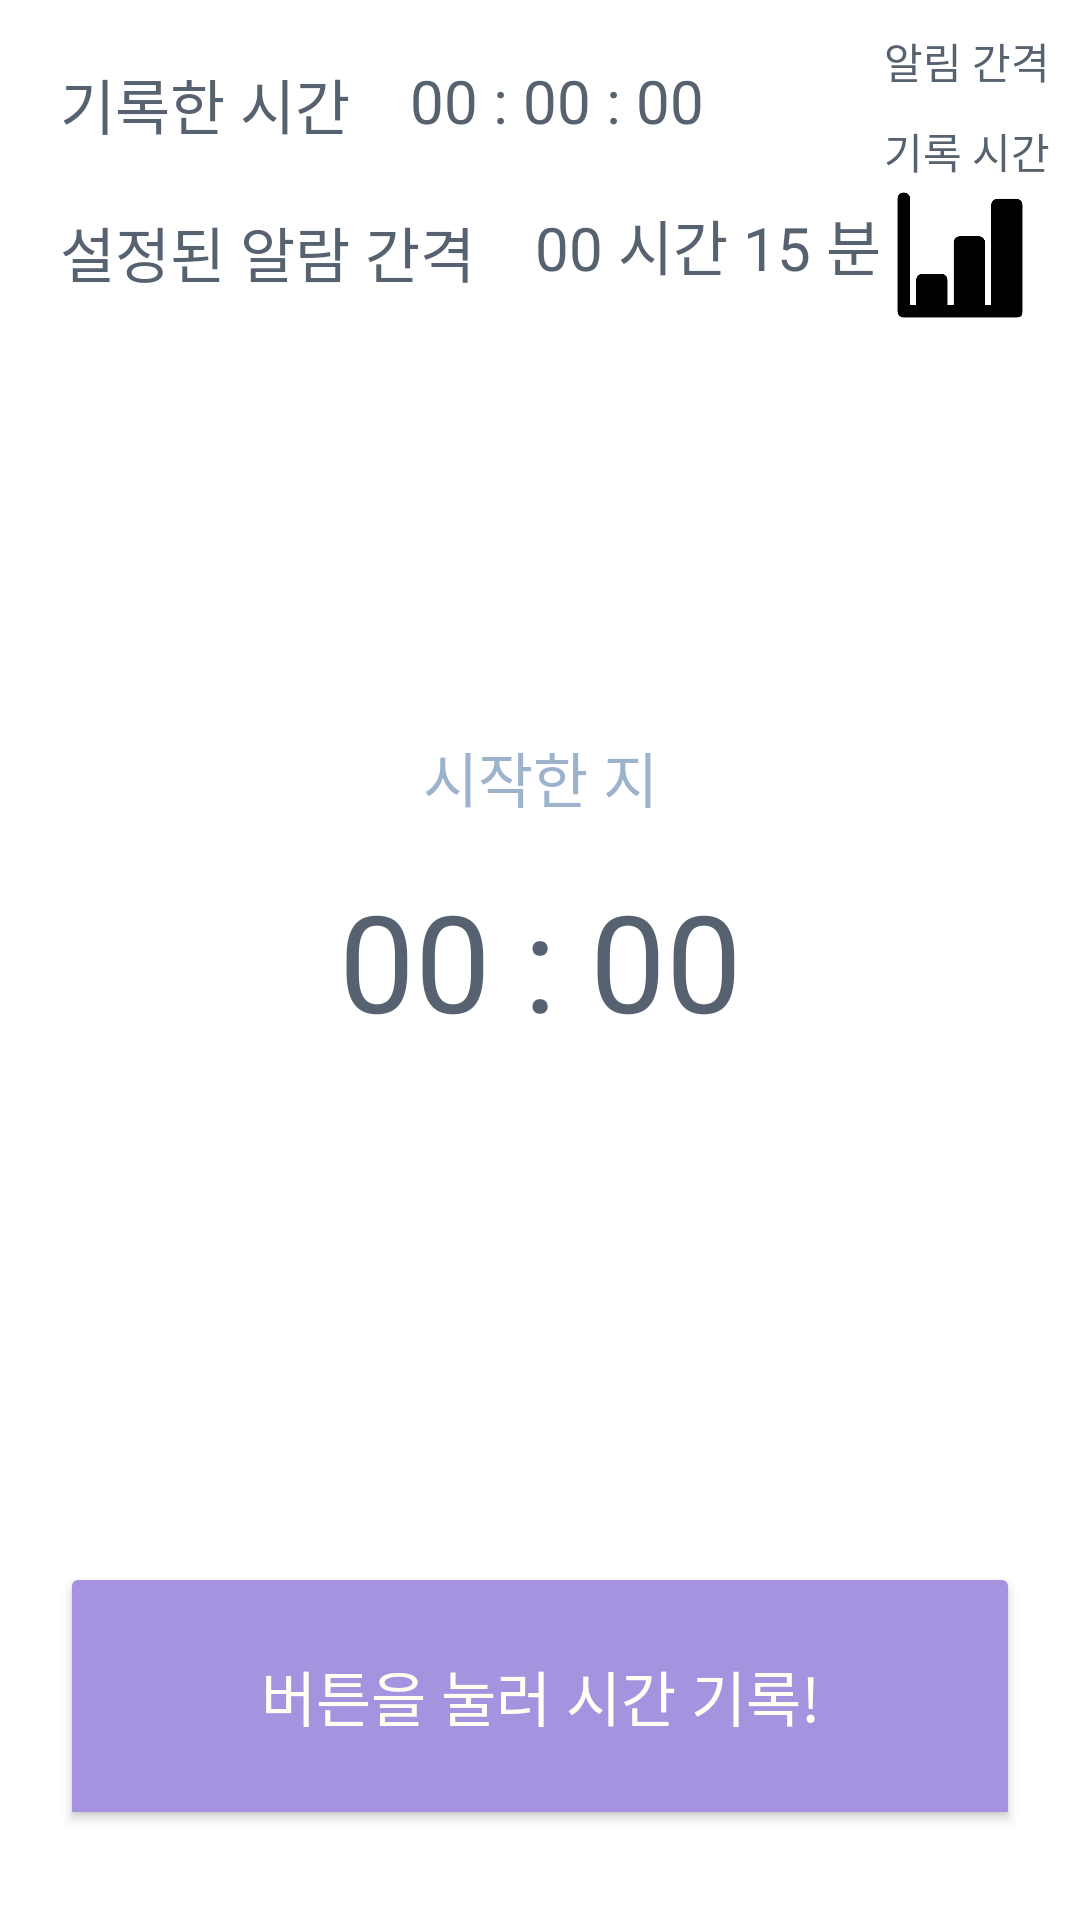

Icons on this 1080×1920 Android screen, each with the point to tap as [x,y]:
graphicon: [960,255]
